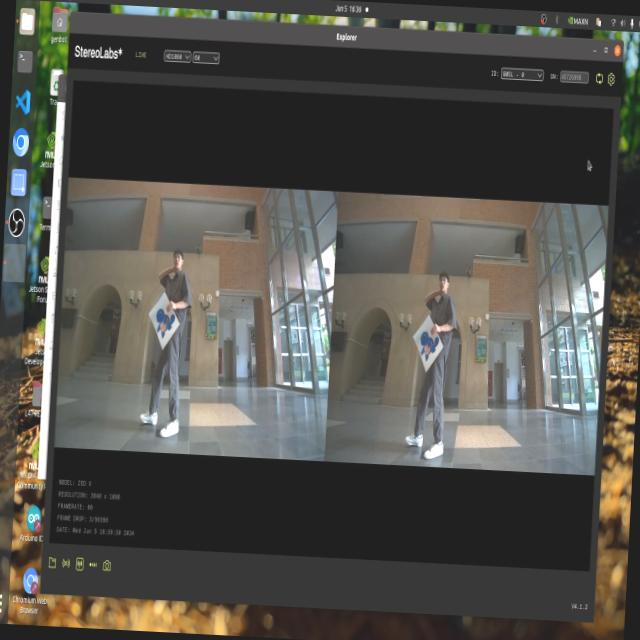blue: (153, 306, 180, 344), (418, 323, 441, 362)
